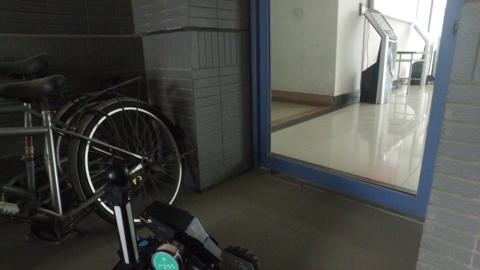bike: (2, 77, 186, 221)
chariot: (99, 166, 263, 269)
